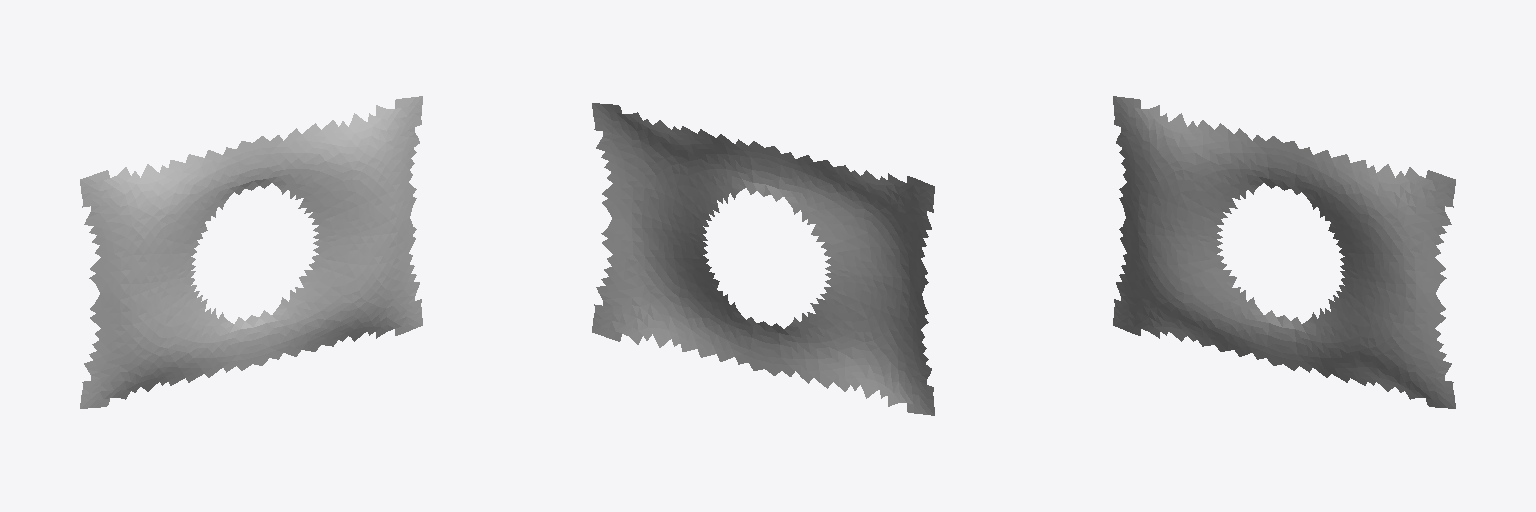
File: court1_opt_final1.obj
The picture shows the model from 3 angles: view 1: azimuth 30°, elevation 25°; view 2: azimuth 150°, elevation 25°; view 3: azimuth 330°, elevation 25°; orthographic projection.
Size of the model in its own units: 59.03 by 38.88 by 2.89.